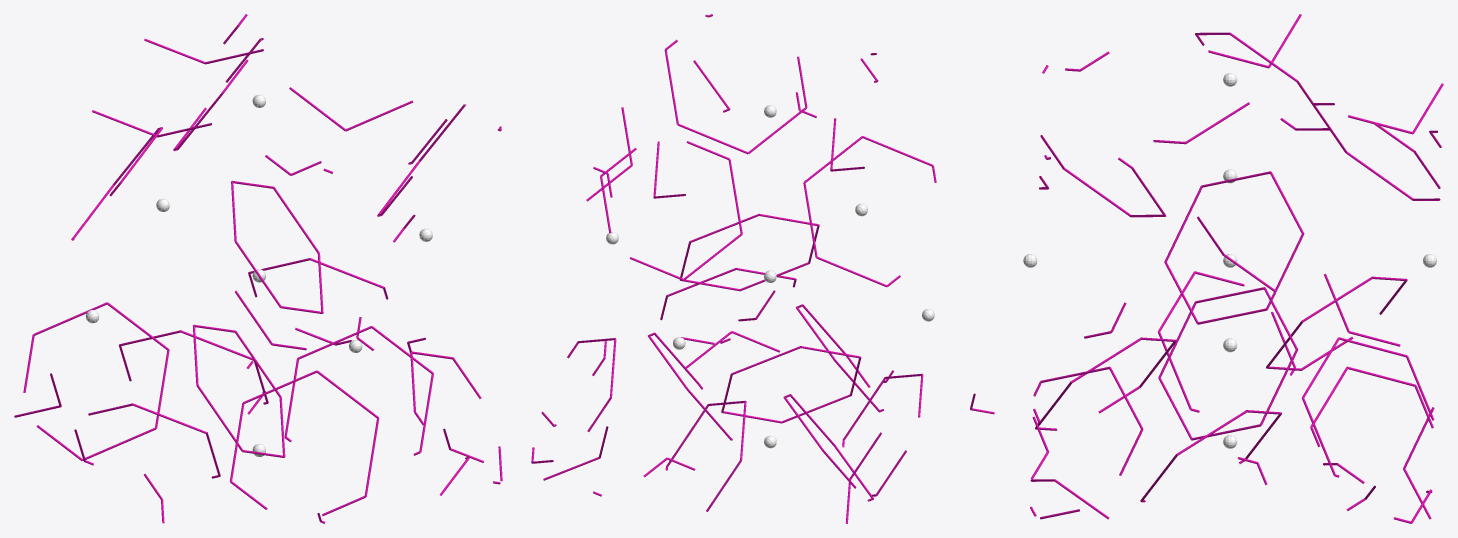
Rendered from DDD_0.glb.
3 views of the same model, side by side, from view 1: azimuth 30°, elevation 25°; view 2: azimuth 150°, elevation 25°; view 3: azimuth 270°, elevation 25° (orthographic). The views are drawn at different scales.
Parts seen in each view (by area): view 1: Shape_IndexedLineSet.003; view 2: Shape_IndexedLineSet.003; view 3: Shape_IndexedLineSet.003.
Part boxes in pixels (<box>): Shape_IndexedLineSet.003: <box>14,14,502,523</box>; Shape_IndexedLineSet.003: <box>531,14,994,523</box>; Shape_IndexedLineSet.003: <box>1030,14,1443,523</box>.
Size of what is drawn, in the model's own units: 1.04 by 1.04 by 1.05.
